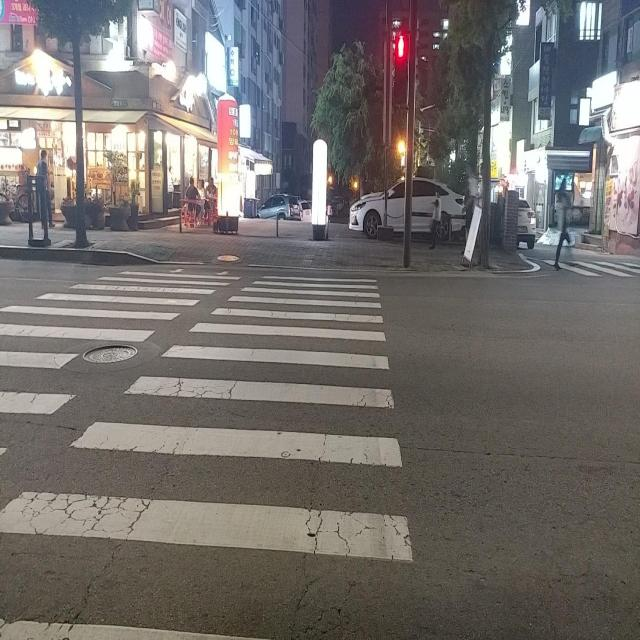빨간불: (394, 31, 411, 96)
횡단보도: (0, 265, 415, 639)
